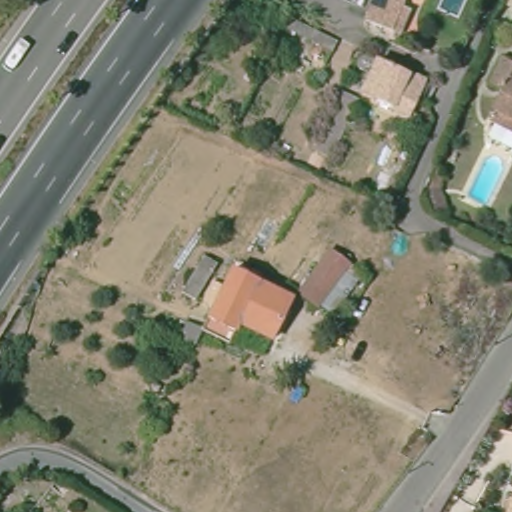pool: (462, 151, 508, 212)
